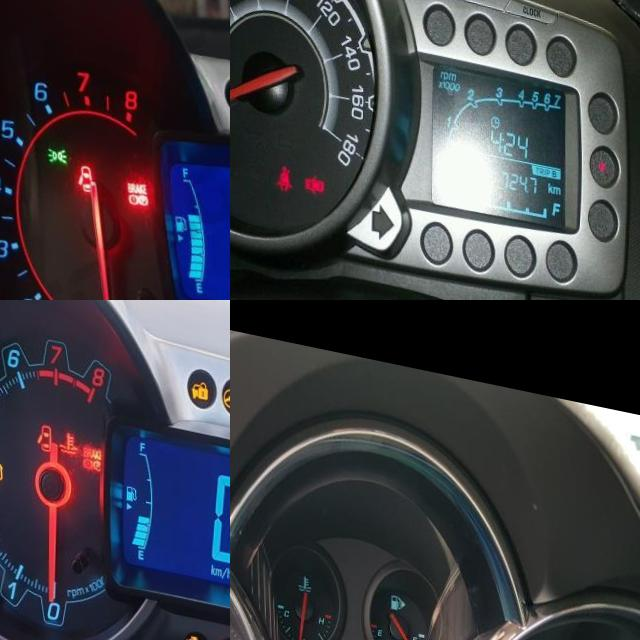Doors: (75, 153, 95, 184), (304, 166, 326, 190), (36, 414, 52, 443)
Engine cooling system: (59, 420, 78, 446)
Low fuel level: (0, 451, 3, 477)
SideLamp: (45, 135, 68, 160)
